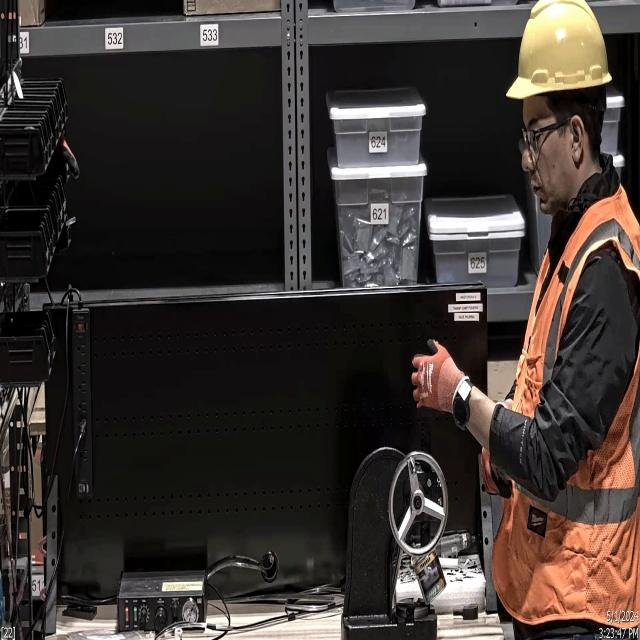gloves: (408, 336, 466, 419)
